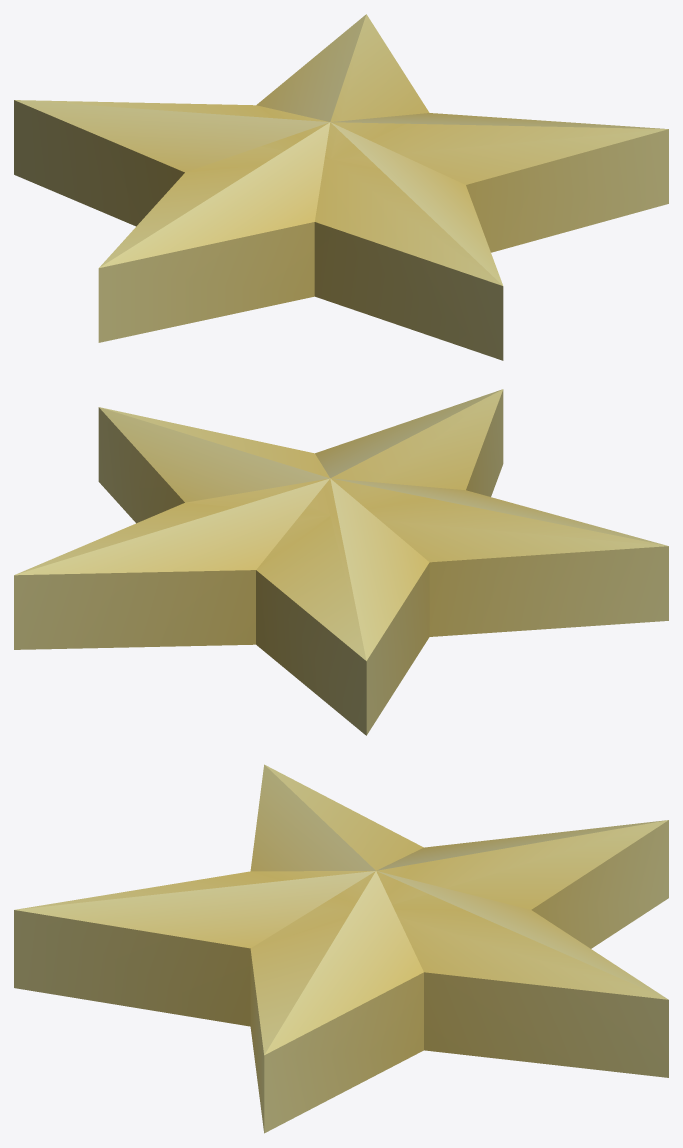
The model's file is Starbloom.glb.
The picture shows the model from 3 angles, top to bottom: view 1: azimuth 30°, elevation 25°; view 2: azimuth 150°, elevation 25°; view 3: azimuth 270°, elevation 25°; orthographic projection. The views are drawn at different scales.
Visible parts, largest first — view 1: Starbloom; view 2: Starbloom; view 3: Starbloom.
Boxes of the visible parts, x1,y1,x2,y2 form: Starbloom: [14, 14, 668, 360]; Starbloom: [14, 389, 668, 735]; Starbloom: [14, 764, 668, 1133].
Size of the model in its own units: 0.7989 by 0.15 by 0.7598.
